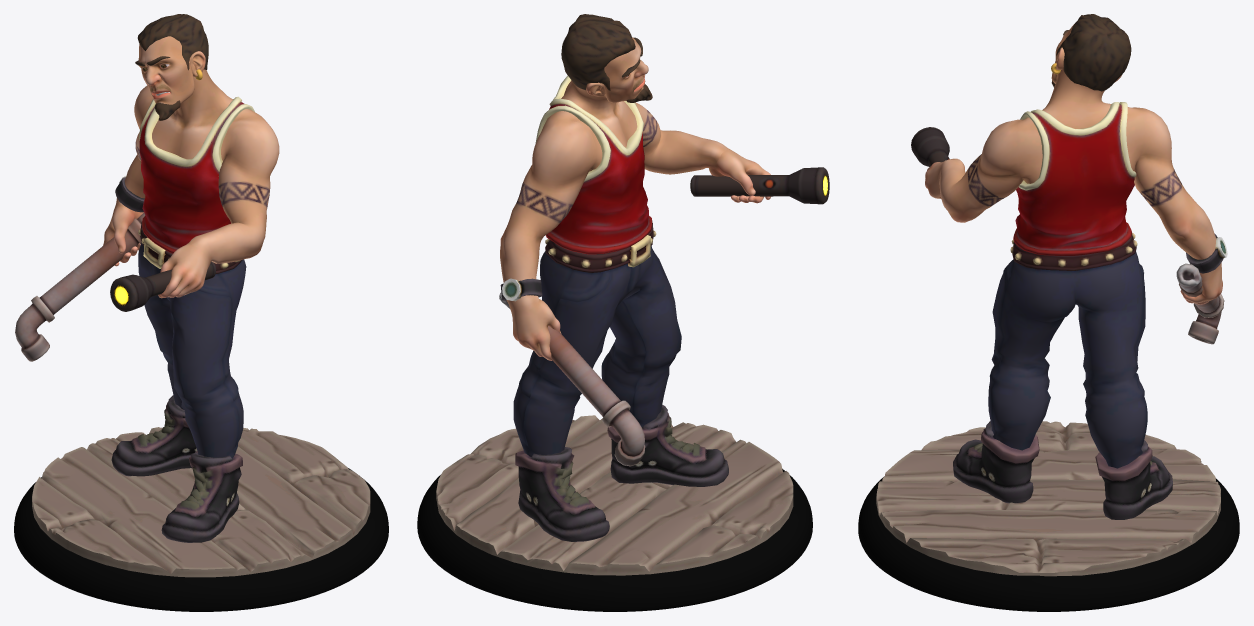
File: SM_OxBellows.fbx
3 views of the same model, side by side, from view 1: azimuth 30°, elevation 25°; view 2: azimuth 150°, elevation 25°; view 3: azimuth 270°, elevation 25° (orthographic). The views are drawn at different scales.
Parts seen in each view (by area): view 1: hf_4411755_5481258; view 2: hf_4411755_5481258; view 3: hf_4411755_5481258.
Part boxes in pixels (x1,y1,x2,y2): hf_4411755_5481258: (14, 14, 388, 611); hf_4411755_5481258: (417, 14, 829, 611); hf_4411755_5481258: (858, 14, 1239, 611).
Bounding box in the file's own units: 135 × 198 × 135.
